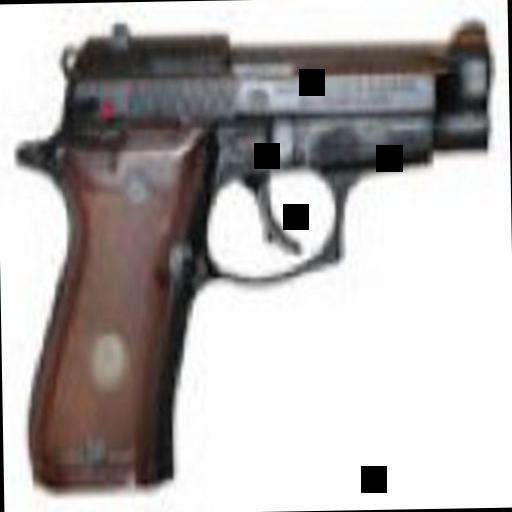Handgun: (4, 3, 495, 497)
